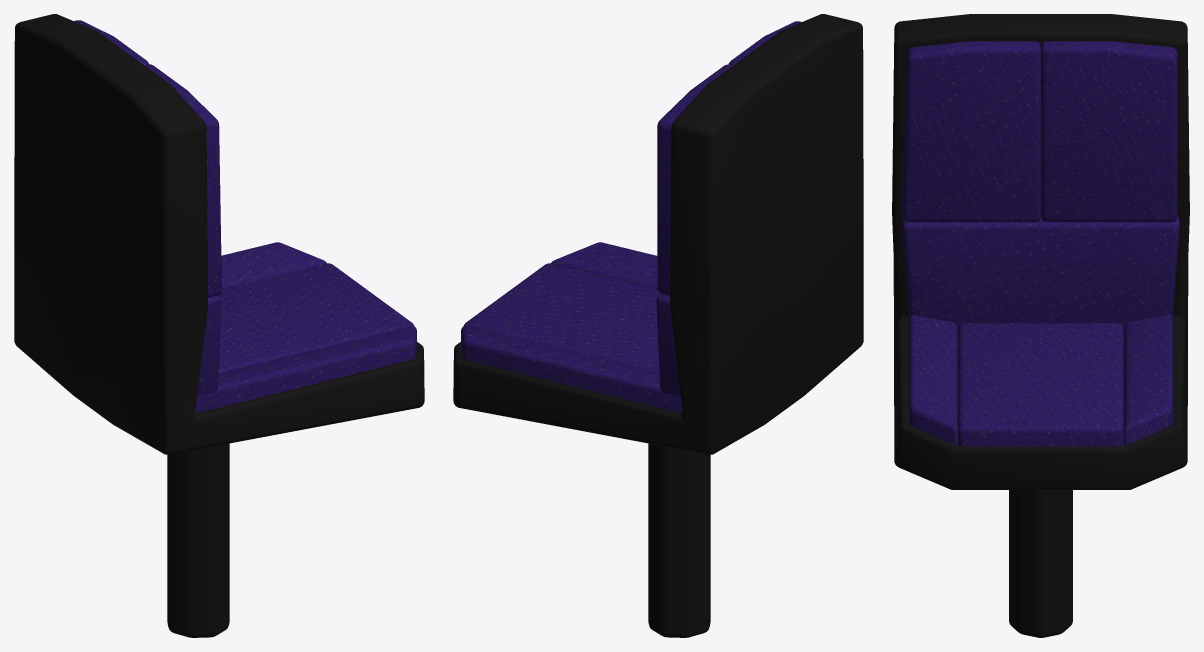
Rendered from Vico_Object_Chair_Court.fbx.
3 renders of one model, left to right at view 1: azimuth 30°, elevation 25°; view 2: azimuth 150°, elevation 25°; view 3: azimuth 270°, elevation 25°, orthographic. The views are drawn at different scales.
Parts seen in each view (by area): view 1: Char_Court; view 2: Char_Court; view 3: Char_Court.
Boxes of the visible parts, x1,y1,x2,y2 form: Char_Court: (14,14,424,637); Char_Court: (453,14,863,637); Char_Court: (892,14,1189,637).
Size of the model in its own units: 52.12 by 101 by 48.15.
